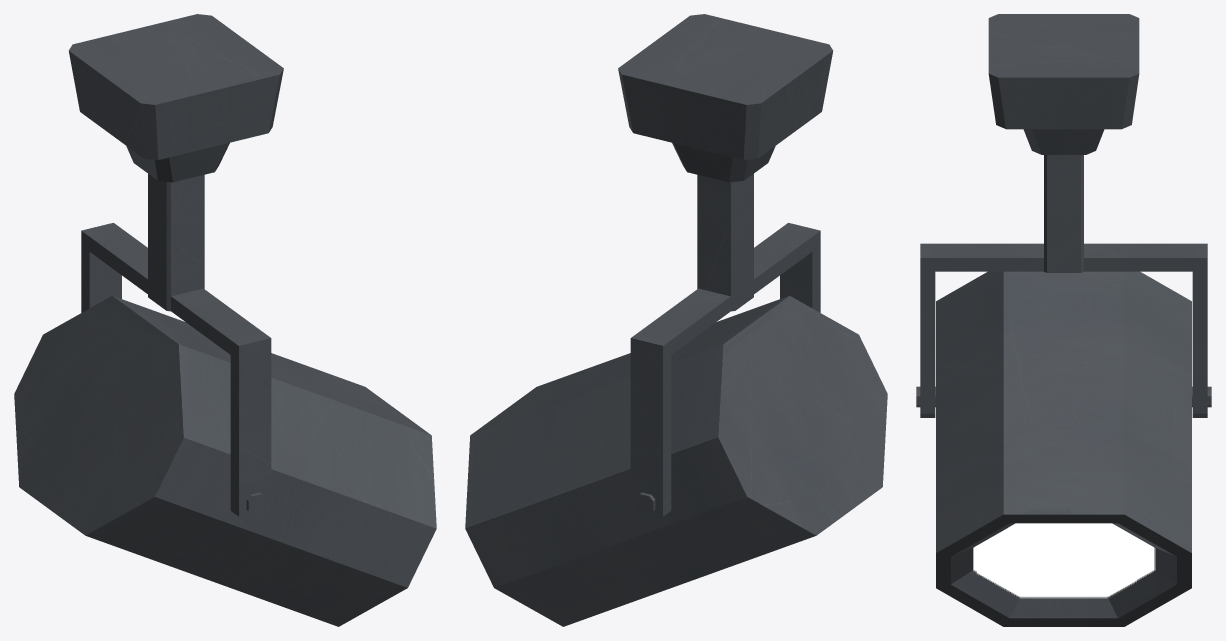
Rendered from Spotlight.fbx.
The picture shows the model from 3 angles, left to right: view 1: azimuth 30°, elevation 25°; view 2: azimuth 150°, elevation 25°; view 3: azimuth 270°, elevation 25°; orthographic projection. The views are drawn at different scales.
Visible parts, largest first — view 1: Spotlight.001, Spotlight; view 2: Spotlight.001, Spotlight; view 3: Spotlight.001, Spotlight.
Part boxes in pixels (<box>): Spotlight.001: <box>14,295,436,626</box>; Spotlight: <box>68,14,283,523</box>; Spotlight.001: <box>465,295,887,626</box>; Spotlight: <box>618,14,833,523</box>; Spotlight.001: <box>936,271,1191,626</box>; Spotlight: <box>916,14,1211,417</box>.
Bounding box in the file's own units: 24.17 × 38.33 × 19.6.
